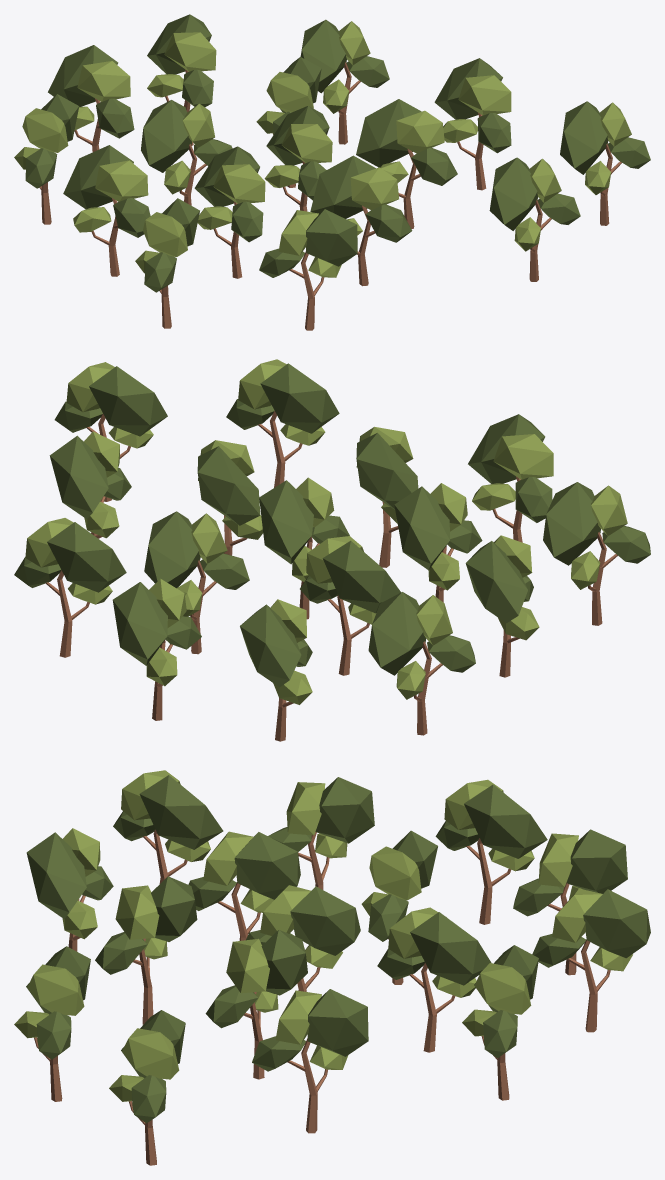
File: Forest.glb
3 views of the same model, one above another, from view 1: azimuth 30°, elevation 25°; view 2: azimuth 150°, elevation 25°; view 3: azimuth 270°, elevation 25° (orthographic). The views are drawn at different scales.
Visible parts, largest first — view 1: tree01.001, tree01.009_tree01.010, tree01.008_tree01.009, tree01.007_tree01.008, tree01.014_tree01.015, tree01.015_tree01.016, tree01.012_tree01.013, tree01.002, tree01.010_tree01.011, tree01.004_tree01.007, tree01.006, tree01.005 (+4 smaller); view 2: tree01.013_tree01.014, tree01.011_tree01.012, tree01.012_tree01.013, tree01.006, tree01.014_tree01.015, tree01.003, tree01.005, tree01.015_tree01.016, tree01.004_tree01.007, tree01.002, tree01, tree01.010_tree01.011 (+4 smaller); view 3: tree01.005, tree01.007_tree01.008, tree01.003, tree01.011_tree01.012, tree01.013_tree01.014, tree01.002, tree01.008_tree01.009, tree01.001, tree01.009_tree01.010, tree01.012_tree01.013, tree01.010_tree01.011, tree01 (+4 smaller).
Boxes of the visible parts, <box> form: tree01.001: <box>356,99,457,228</box>; tree01.009_tree01.010: <box>63,145,150,276</box>; tree01.008_tree01.009: <box>310,155,412,286</box>; tree01.007_tree01.008: <box>434,58,511,190</box>; tree01.014_tree01.015: <box>489,157,580,281</box>; tree01.015_tree01.016: <box>560,101,650,225</box>; tree01.012_tree01.013: <box>259,209,357,330</box>; tree01.002: <box>194,146,265,278</box>; tree01.010_tree01.011: <box>48,45,134,151</box>; tree01.004_tree01.007: <box>141,100,232,205</box>; tree01.006: <box>300,19,389,144</box>; tree01.005: <box>147,14,216,145</box>; tree01.013_tree01.014: <box>543,482,650,625</box>; tree01.011_tree01.012: <box>368,592,475,735</box>; tree01.012_tree01.013: <box>468,414,553,542</box>; tree01.006: <box>14,518,126,657</box>; tree01.014_tree01.015: <box>226,359,339,487</box>; tree01.003: <box>144,511,249,654</box>; tree01.005: <box>112,578,201,720</box>; tree01.015_tree01.016: <box>54,362,167,501</box>; tree01.004_tree01.007: <box>300,536,400,675</box>; tree01.002: <box>394,483,482,602</box>; tree01: <box>259,477,349,619</box>; tree01.010_tree01.011: <box>240,599,312,741</box>; tree01.005: <box>532,888,650,1032</box>; tree01.007_tree01.008: <box>252,989,368,1133</box>; tree01.003: <box>377,907,491,1052</box>; tree01.011_tree01.012: <box>435,779,547,924</box>; tree01.013_tree01.014: <box>113,770,223,883</box>; tree01.002: <box>188,831,300,940</box>; tree01.008_tree01.009: <box>95,876,197,1024</box>; tree01.001: <box>205,930,307,1079</box>; tree01.009_tree01.010: <box>268,777,374,889</box>; tree01.012_tree01.013: <box>26,828,113,951</box>; tree01.010_tree01.011: <box>513,829,627,975</box>; tree01: <box>246,885,360,991</box>.
Bounding box in the file's own units: 32.63 × 7.5 × 29.65.
16 materials, 16 textured.
